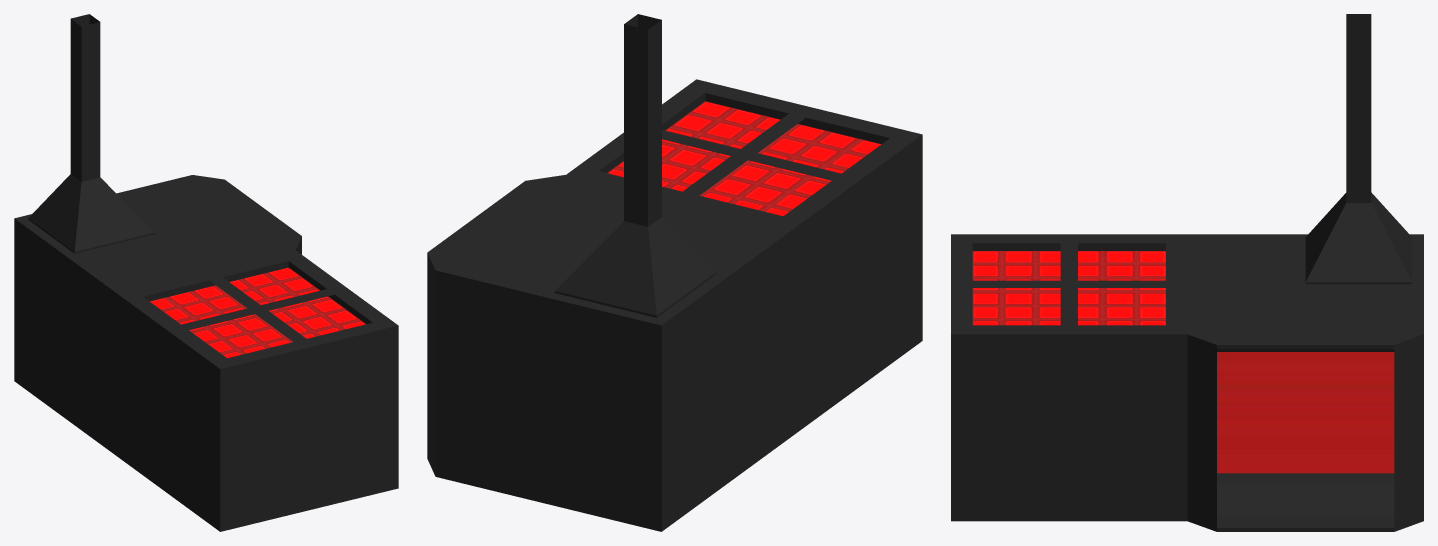
Rendered from cookingrange.glb.
3 views of the same model, side by side, from view 1: azimuth 30°, elevation 25°; view 2: azimuth 150°, elevation 25°; view 3: azimuth 270°, elevation 25° (orthographic). The views are drawn at different scales.
Parts seen in each view (by area): view 1: cookingrange_joined; view 2: cookingrange_joined; view 3: cookingrange_joined.
Boxes of the visible parts, bbox=[...] form: cookingrange_joined: bbox=[14, 14, 398, 531]; cookingrange_joined: bbox=[427, 14, 922, 531]; cookingrange_joined: bbox=[951, 14, 1423, 531].
Size of the model in its own units: 1 by 1.8 by 1.81.
Materials: 2 (1 with a texture image).
